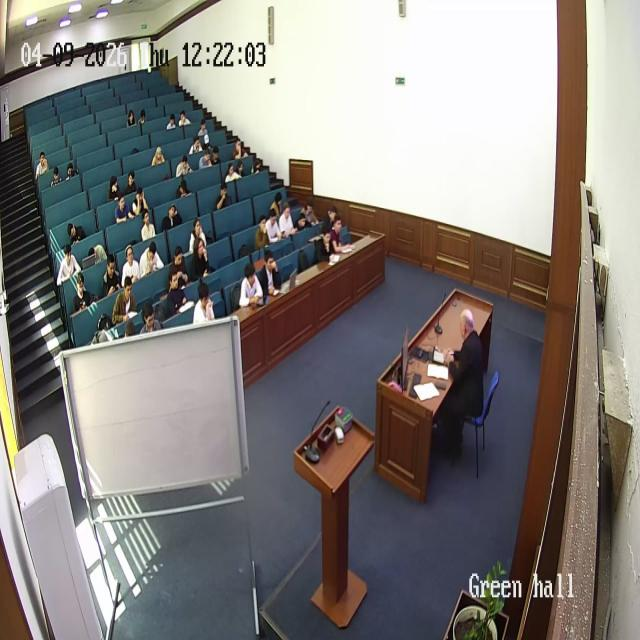person: (435, 308, 485, 459), (164, 267, 190, 318), (112, 274, 138, 324), (238, 262, 264, 310), (56, 241, 82, 287), (259, 250, 283, 298), (166, 245, 190, 289), (139, 240, 165, 278), (193, 282, 215, 325), (121, 243, 142, 287), (102, 253, 122, 299), (192, 235, 212, 280), (73, 273, 95, 313), (314, 225, 334, 267), (188, 216, 208, 256), (329, 218, 349, 256), (139, 303, 161, 335), (84, 239, 104, 274), (254, 212, 272, 250), (277, 200, 295, 238), (265, 208, 283, 245), (141, 208, 159, 244), (114, 192, 132, 224), (162, 204, 182, 232), (300, 193, 318, 222), (132, 187, 149, 216), (66, 222, 86, 246), (231, 134, 246, 164), (216, 184, 232, 212), (108, 174, 123, 203), (123, 170, 139, 197), (198, 146, 214, 172), (36, 152, 50, 180), (176, 178, 192, 200), (176, 156, 192, 178), (226, 162, 242, 184), (248, 154, 264, 176), (323, 198, 337, 221), (270, 190, 284, 213), (188, 136, 204, 156), (197, 120, 211, 142), (151, 145, 165, 166), (296, 208, 308, 232), (50, 164, 62, 186), (64, 162, 77, 181), (178, 111, 192, 127), (126, 109, 138, 127), (166, 116, 178, 130), (212, 143, 222, 159), (138, 108, 146, 124)
